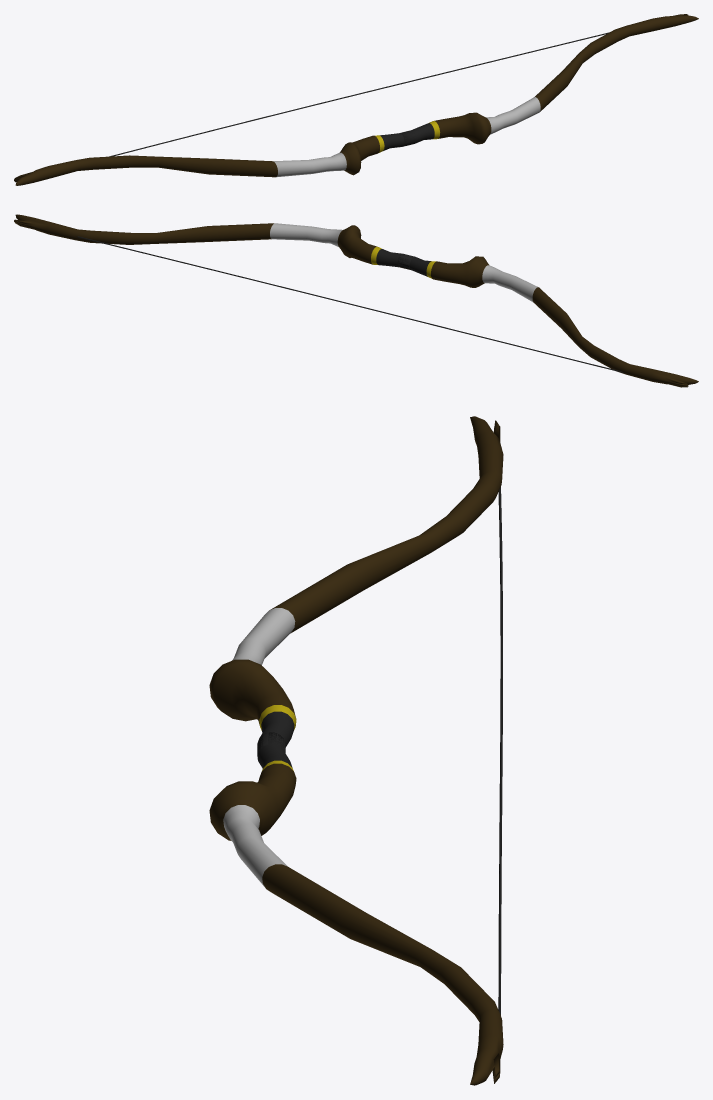
Rendered from bow2.fbx.
3 views of the same model, one above another, from view 1: azimuth 30°, elevation 25°; view 2: azimuth 150°, elevation 25°; view 3: azimuth 270°, elevation 25° (orthographic). The views are drawn at different scales.
Visible parts, largest first — view 1: Cylinder, BezierCurve; view 2: Cylinder, BezierCurve; view 3: Cylinder, BezierCurve.
Boxes of the visible parts, x1,y1,x2,y2 form: Cylinder: (14, 14, 698, 185); BezierCurve: (109, 32, 609, 156); Cylinder: (14, 214, 698, 387); BezierCurve: (76, 236, 624, 373); Cylinder: (209, 416, 503, 1085); BezierCurve: (498, 487, 502, 1015).
Size of the model in its own units: 1109 by 45.03 by 207.
